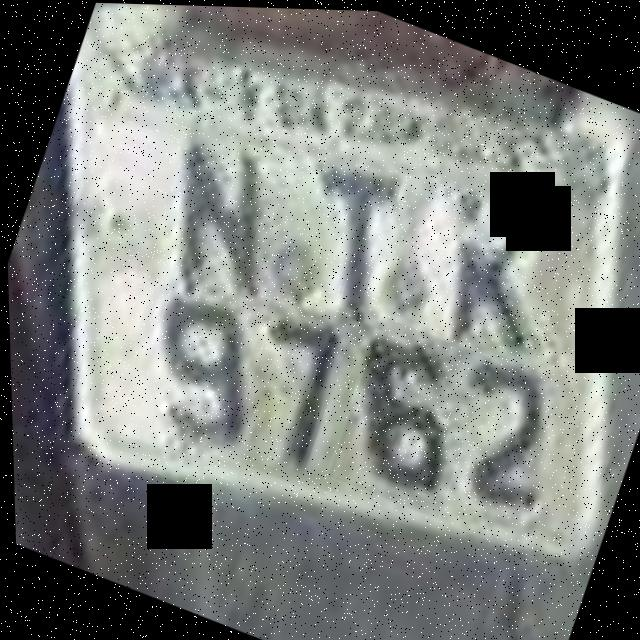1: (221, 287, 391, 494)
2: (408, 316, 597, 531)
6: (322, 313, 493, 518)
7: (212, 280, 386, 496)
9: (108, 257, 296, 479)
K: (404, 162, 579, 365)
